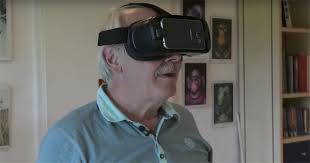oculus: (124, 16, 213, 62)
